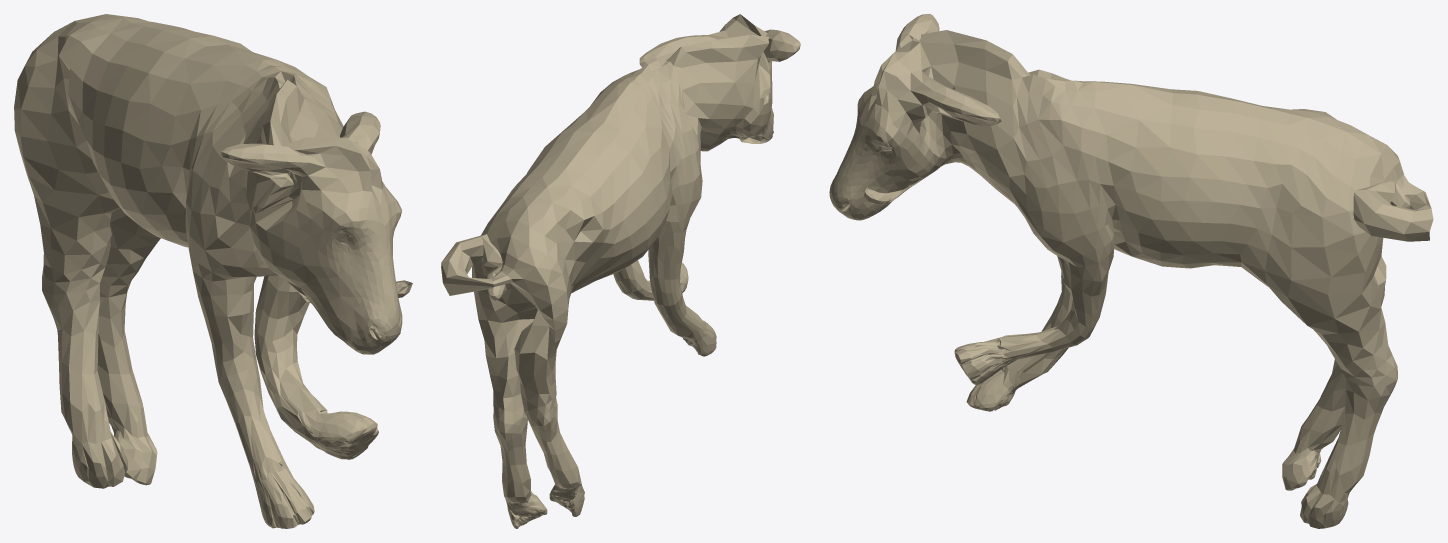
3 views of the same model, side by side, from view 1: azimuth 30°, elevation 25°; view 2: azimuth 150°, elevation 25°; view 3: azimuth 270°, elevation 25° (orthographic). The views are drawn at different scales.
Parts seen in each view (by area): view 1: world; view 2: world; view 3: world.
Part boxes in pixels (x1,y1,x2,y2): world: (14,14,412,528); world: (441,14,800,528); world: (829,14,1433,528).
Bounding box in the file's own units: 0.5785 × 1.38 × 1.64.
